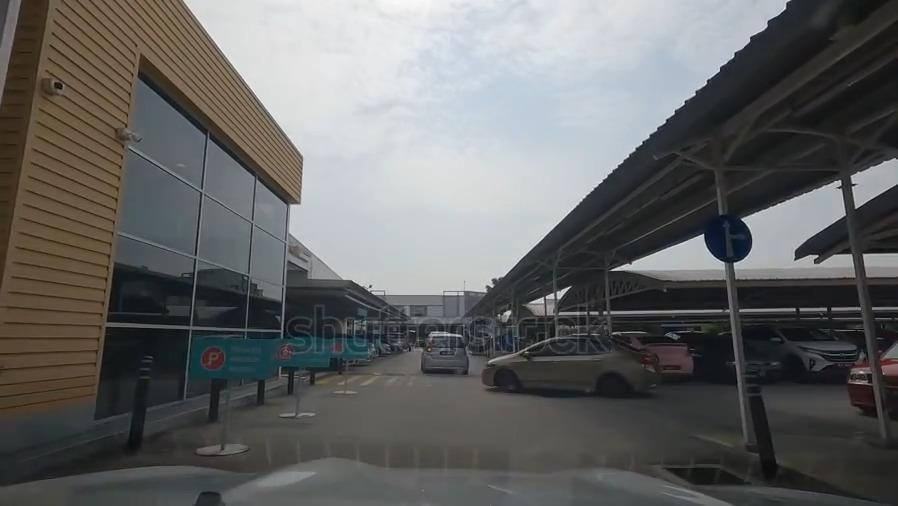car: (483, 335, 654, 393), (757, 320, 865, 378), (691, 336, 783, 380), (841, 343, 898, 414), (625, 335, 693, 375), (421, 332, 469, 375)
manhole: (657, 462, 755, 491)
pedestrian: (312, 377, 490, 391)
speedbump: (343, 368, 487, 379)
wheel: (597, 375, 627, 395), (493, 371, 519, 391)
